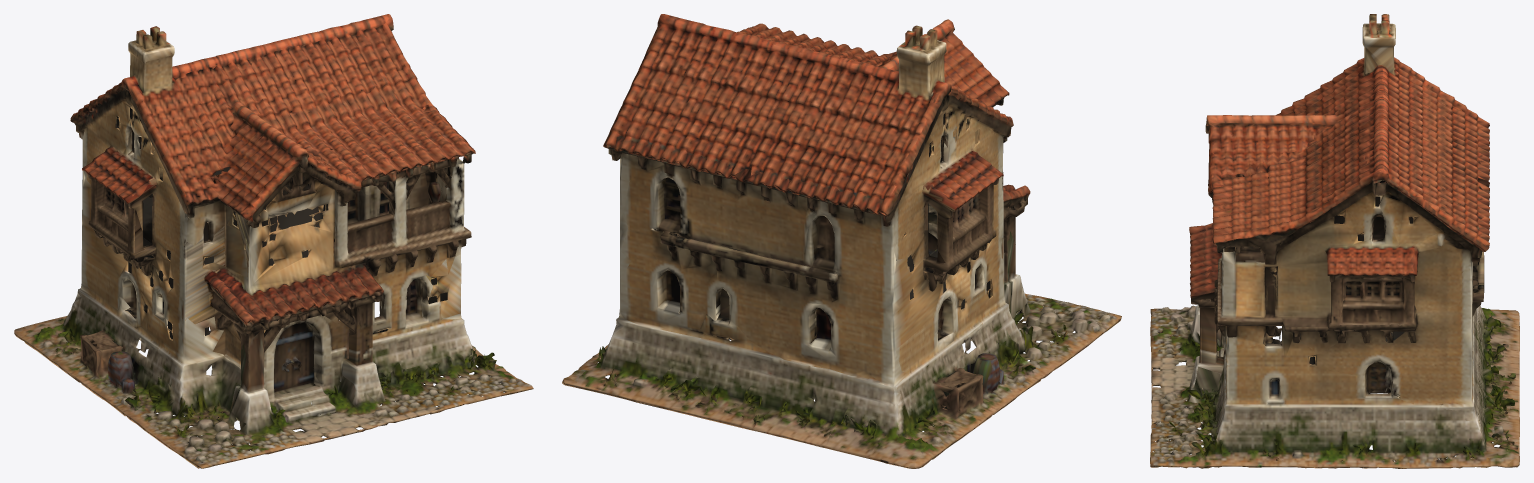
The model's file is SM_CentroDeMando.fbx.
3 renders of one model, left to right at view 1: azimuth 30°, elevation 25°; view 2: azimuth 150°, elevation 25°; view 3: azimuth 270°, elevation 25°, orthographic. The views are drawn at different scales.
Parts seen in each view (by area): view 1: SM_CentroDeMando; view 2: SM_CentroDeMando; view 3: SM_CentroDeMando.
Boxes of the visible parts, box(x1,y1,x2,y2) form: SM_CentroDeMando: box(14, 14, 533, 468); SM_CentroDeMando: box(562, 14, 1121, 468); SM_CentroDeMando: box(1150, 14, 1519, 468).
Size of the model in its own units: 99.93 by 96.83 by 99.47.
1 material, 1 textured.
